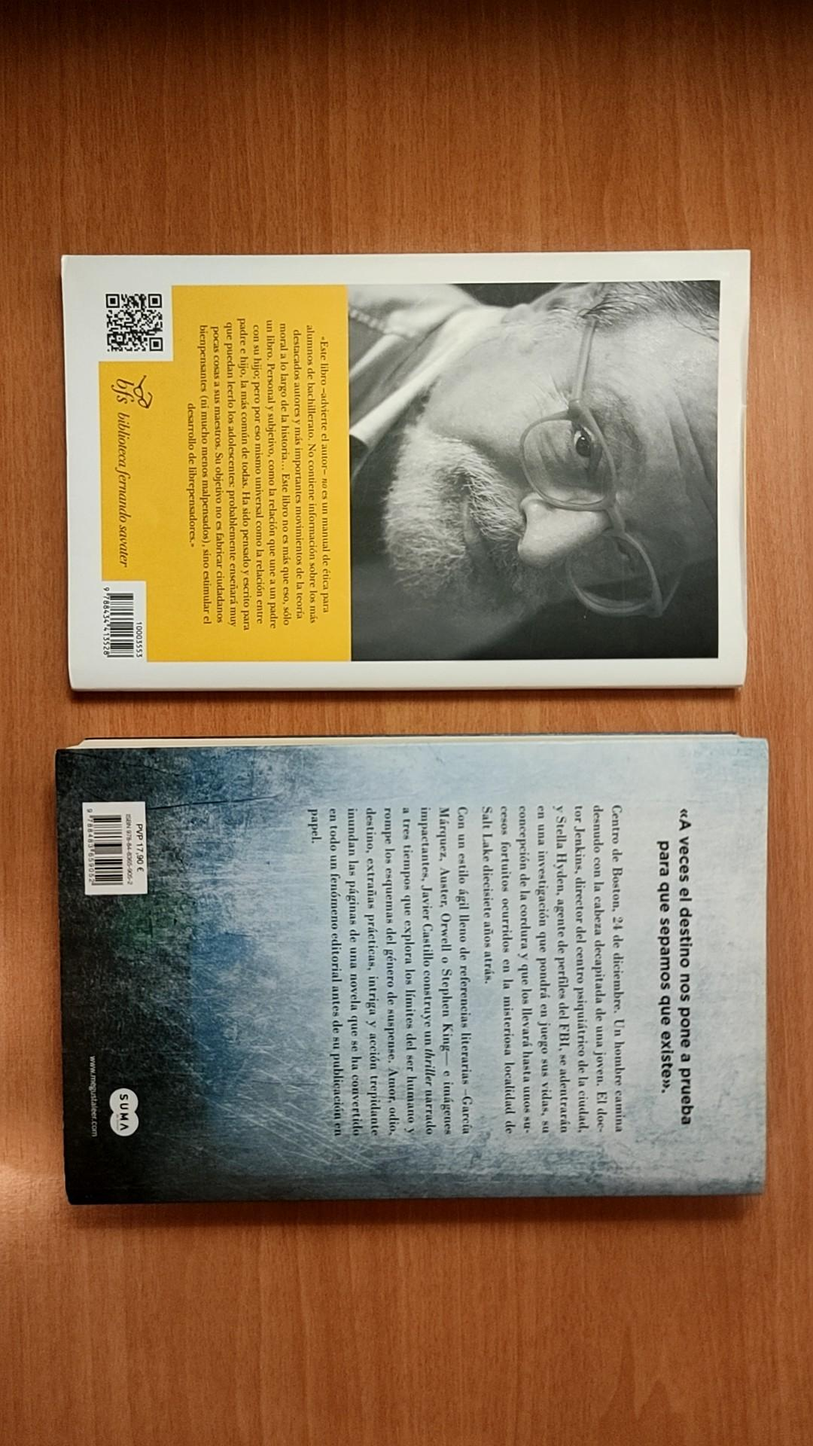book: (56, 719, 768, 1203), (63, 253, 748, 696)
